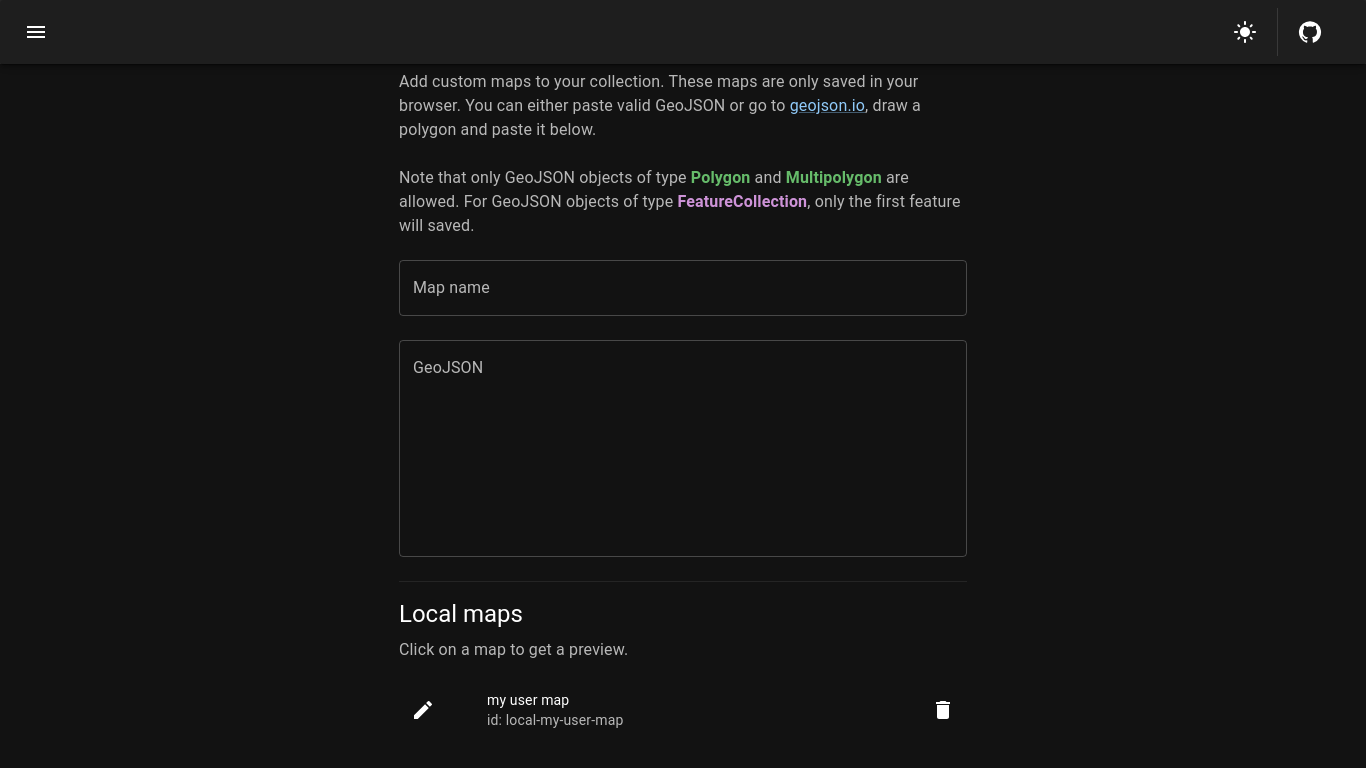
Test: Integration, local map handling › removes input maps from global maps and local storage
This screenshot has width=1366, height=768.
(page scrolled)
expect the number of list items is 1: met, box x1=403 y1=690 x2=963 y2=730
Click the button named "delete-map-icon".
click(943, 710)  # box x1=923 y1=690 x2=963 y2=730
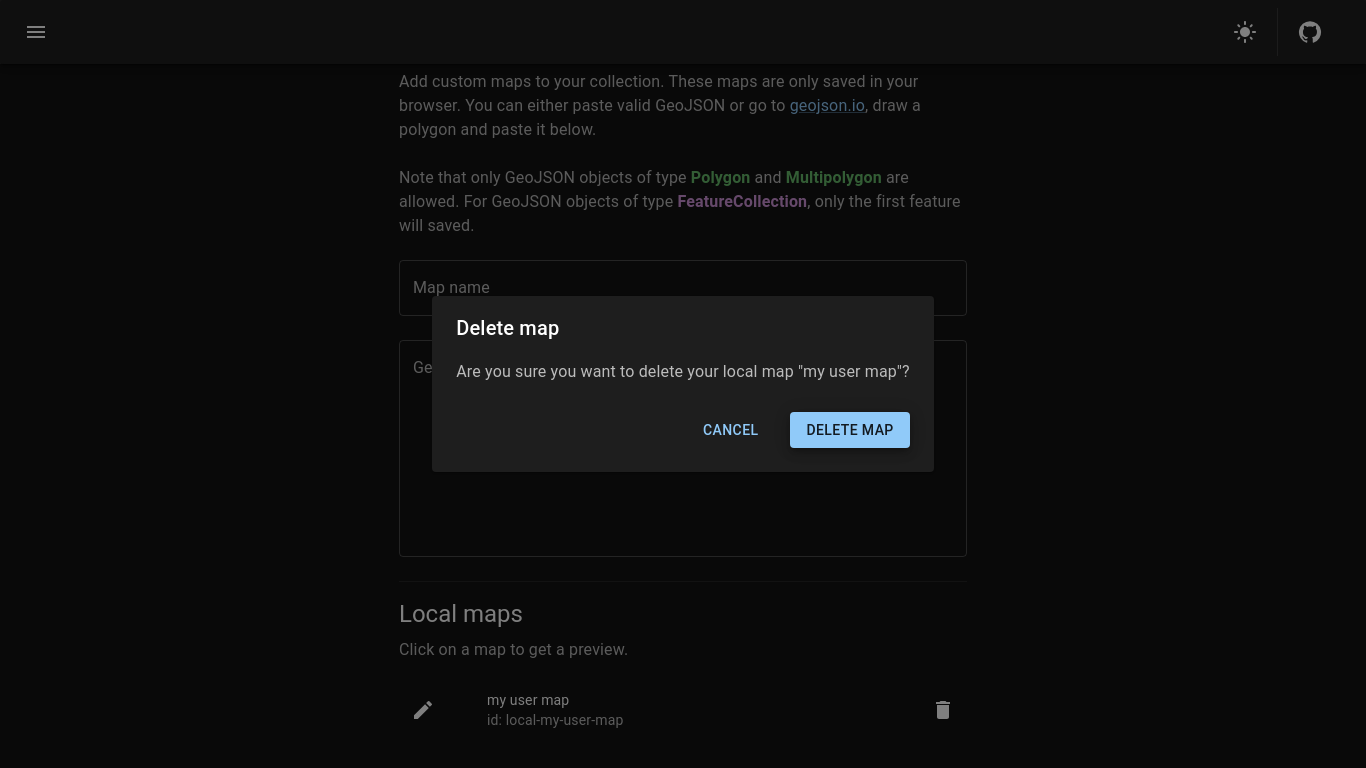
expect the dialog is shown: met, box x1=432 y1=296 x2=934 y2=472
Click the button "Delete map".
click(850, 430)  # box x1=790 y1=412 x2=910 y2=448
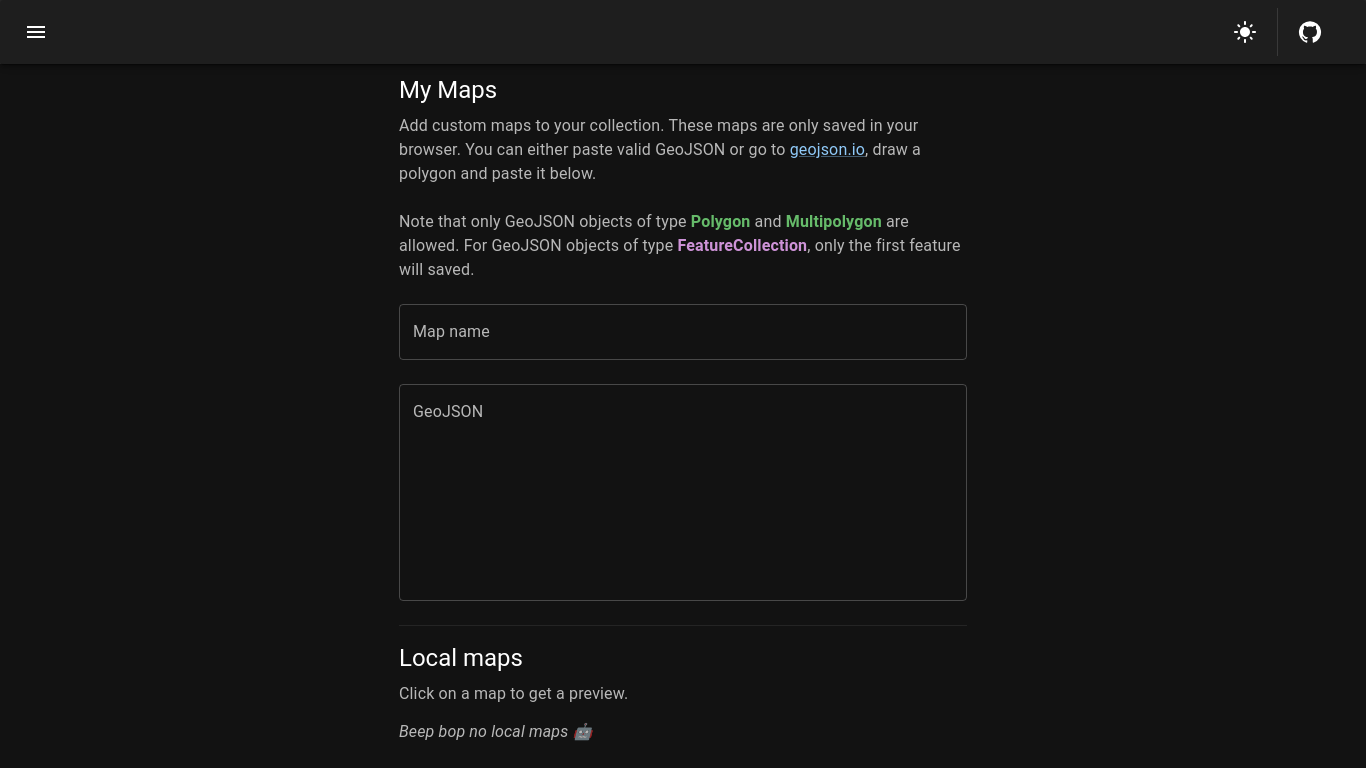
expect the dialog is gone: met
expect no list items are shown: met
